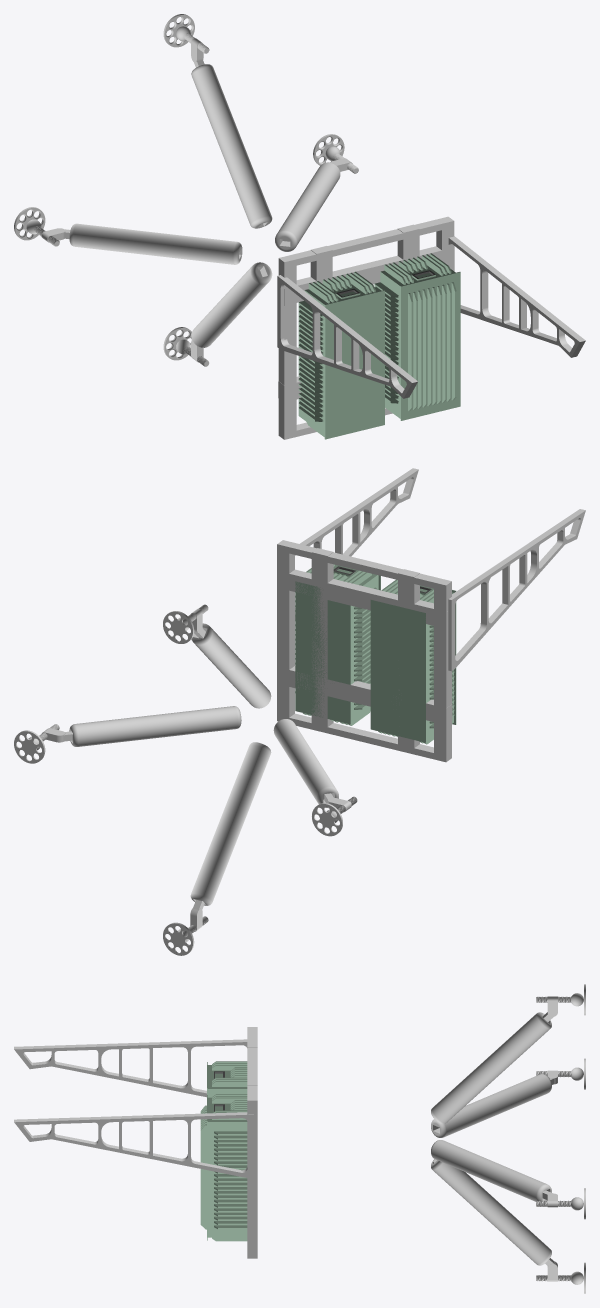
Rendered from ashasm1 v4.glb.
3 views of the same model, one above another, from view 1: azimuth 30°, elevation 25°; view 2: azimuth 150°, elevation 25°; view 3: azimuth 270°, elevation 25° (orthographic). The views are drawn at different scales.
Visible parts, largest first — view 1: LEG v6 (×4), control unit v5, antenna unit v4, frame v2 (×2), baseplate v5, FEET v2 (×4); view 2: baseplate v5, LEG v6 (×4), antenna unit v4, control unit v5, frame v2 (×2), FEET v2 (×4); view 3: LEG v6 (×4), frame v2 (×2), control unit v5, FEET v2 (×4), baseplate v5, antenna unit v4.
Part boxes in pixels (x1=…): LEG v6 (×4): x1=69, y1=64, x2=340, y2=347; control unit v5: x1=374, y1=253, x2=460, y2=420; antenna unit v4: x1=298, y1=271, x2=384, y2=439; frame v2 (×2): x1=277, y1=236, x2=585, y2=398; baseplate v5: x1=278, y1=216, x2=454, y2=439; FEET v2 (×4): x1=14, y1=14, x2=358, y2=366; baseplate v5: x1=277, y1=540, x2=452, y2=762; LEG v6 (×4): x1=69, y1=623, x2=338, y2=905; antenna unit v4: x1=370, y1=579, x2=456, y2=744; control unit v5: x1=295, y1=564, x2=380, y2=725; frame v2 (×2): x1=295, y1=468, x2=585, y2=671; FEET v2 (×4): x1=14, y1=604, x2=357, y2=955; LEG v6 (×4): x1=431, y1=1012, x2=551, y2=1265; frame v2 (×2): x1=14, y1=1039, x2=253, y2=1178; control unit v5: x1=200, y1=1094, x2=247, y2=1241; FEET v2 (×4): x1=536, y1=984, x2=585, y2=1293; baseplate v5: x1=247, y1=1027, x2=257, y2=1258; antenna unit v4: x1=207, y1=1061, x2=247, y2=1097.
Size of what is drawn, in the model's own units: 163 by 163 by 276.
